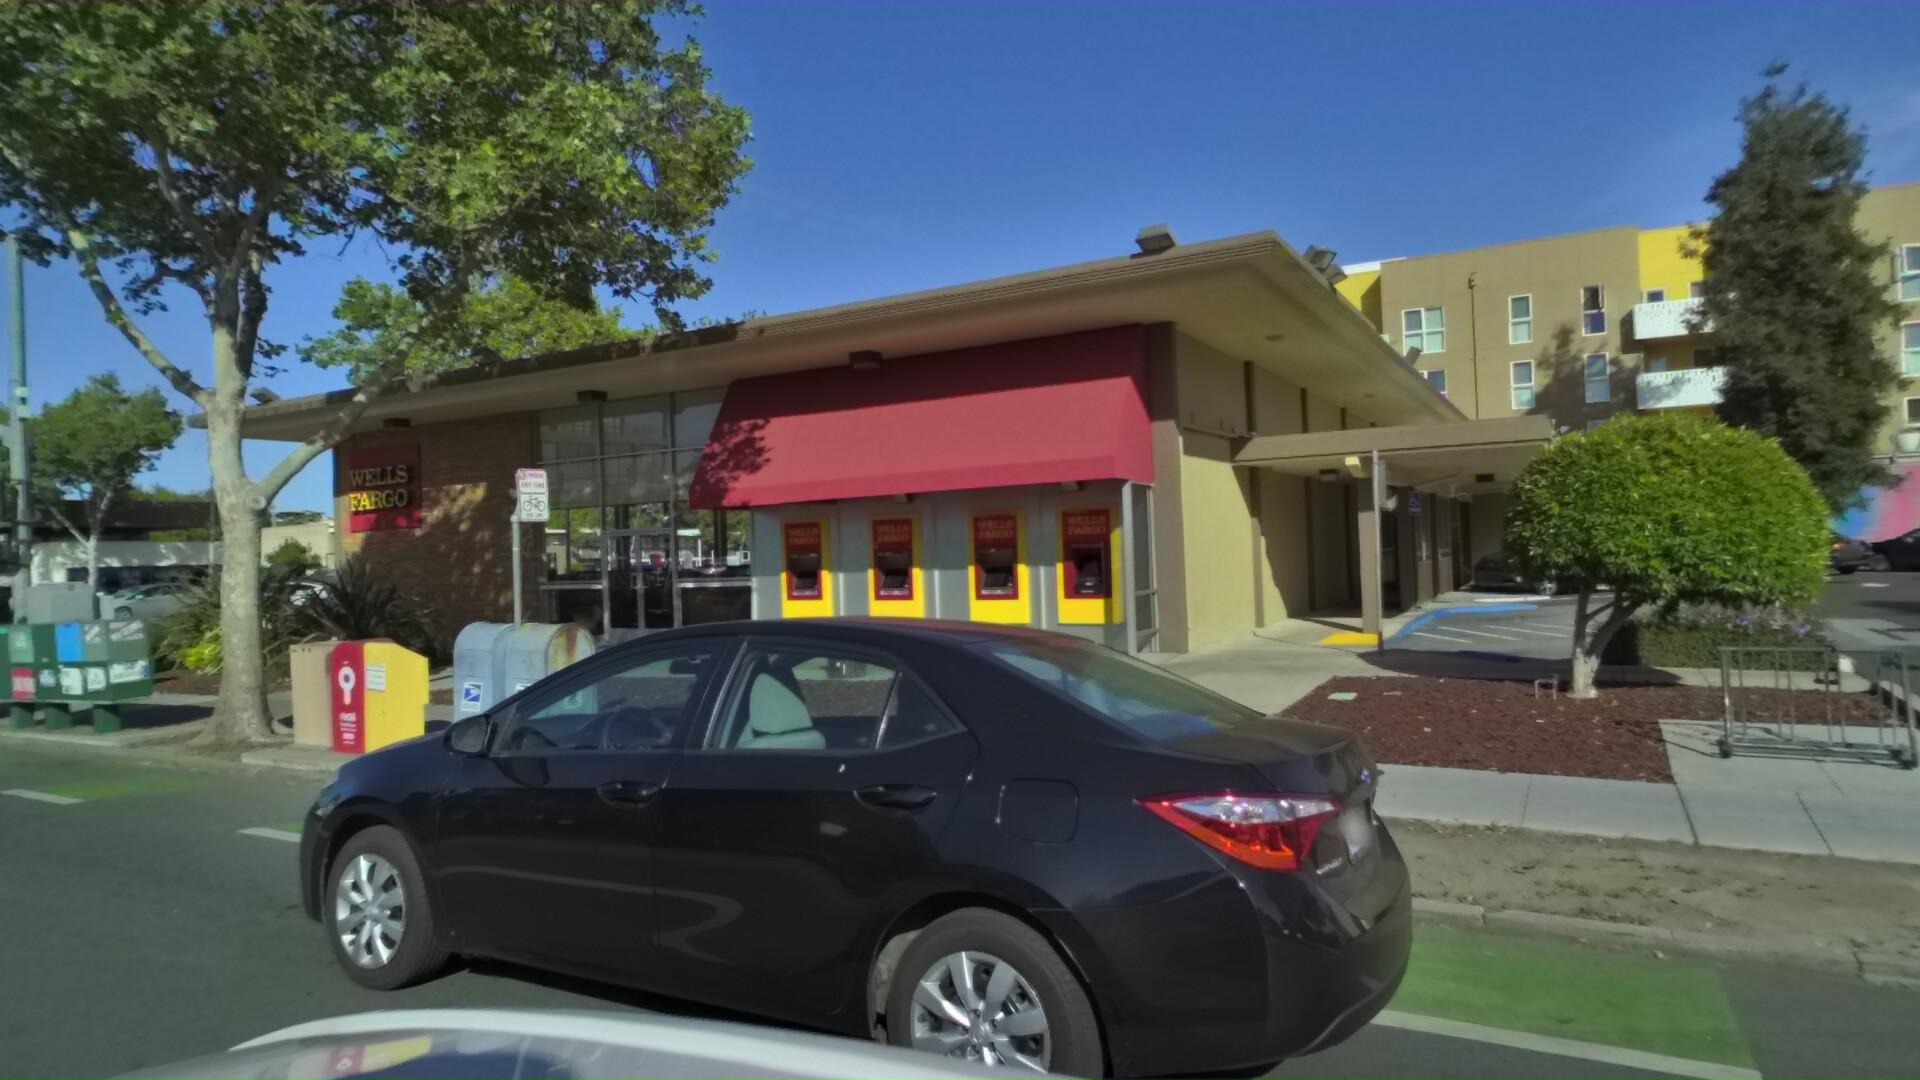car: (218, 568, 1452, 1080), (1461, 516, 1662, 593), (69, 574, 216, 618), (0, 574, 63, 630)
